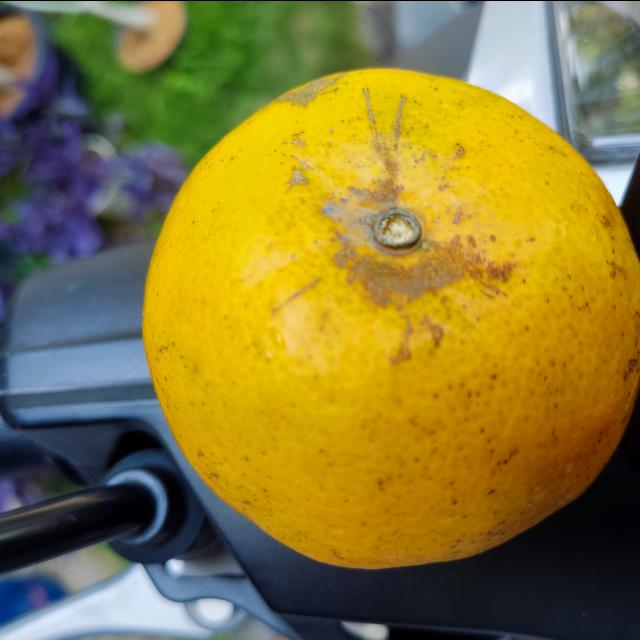orange: (142, 64, 640, 572)
